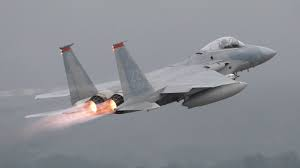fighter: (24, 33, 280, 128)
